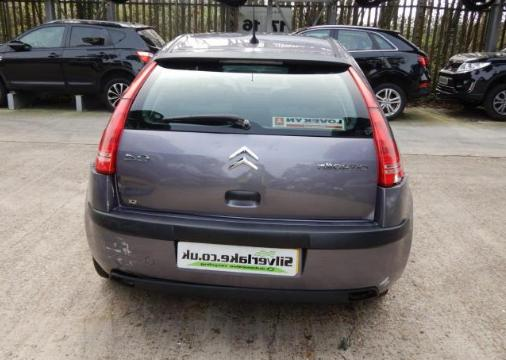Broken part: (109, 267, 379, 303), (85, 161, 128, 215), (370, 172, 410, 223), (383, 215, 412, 231)
Dent: (117, 171, 156, 197), (360, 204, 375, 220)
Scratch: (115, 255, 138, 267), (121, 241, 134, 256), (378, 275, 391, 288), (104, 245, 121, 253), (127, 198, 138, 207), (113, 235, 124, 242), (113, 240, 118, 248), (107, 253, 113, 259)
